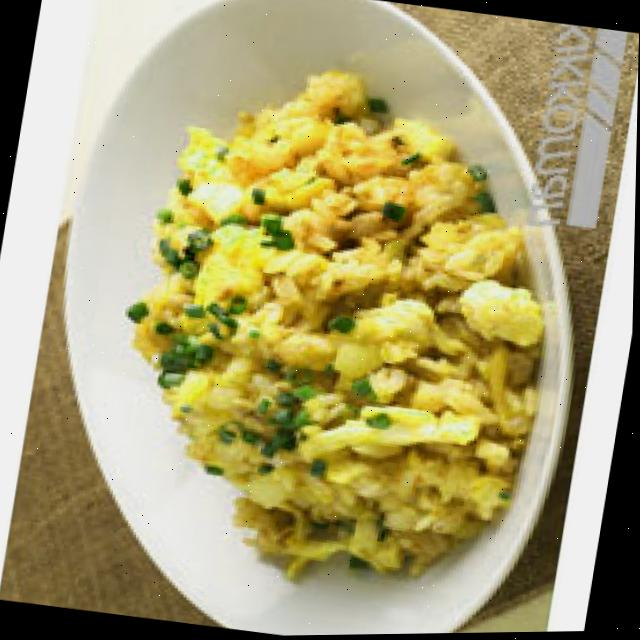米饭主食: (10, 0, 540, 640)
